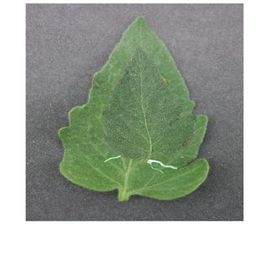liriomyza: (147, 158, 178, 175), (104, 153, 122, 164)
